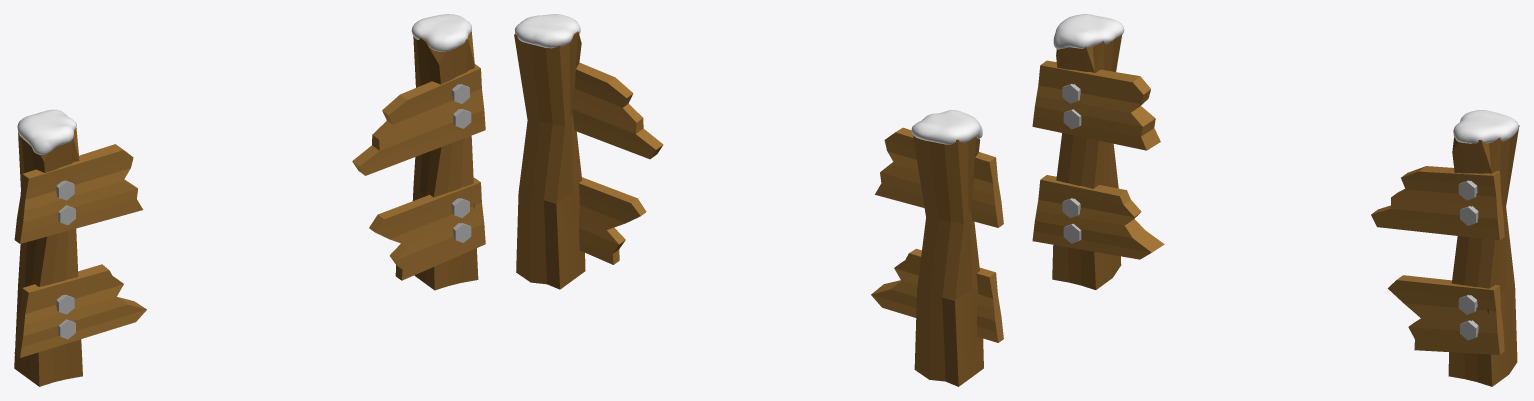
File: fenceDestroyed2.fbx
3 renders of one model, left to right at view 1: azimuth 30°, elevation 25°; view 2: azimuth 150°, elevation 25°; view 3: azimuth 330°, elevation 25°, orthographic.
Parts seen in each view (by area): view 1: Xaxis.005, Yaxis.002, Xaxis.004, SnowBall.006, Rivet.008, Rivet.010, Rivet.009, Rivet.011; view 2: Yaxis.002, Xaxis.005, Xaxis.004, SnowBall.006; view 3: Yaxis.002, Xaxis.005, Xaxis.004, SnowBall.006, Rivet.008, Rivet.010, Rivet.009, Rivet.011.
Part boxes in pixels (x1,y1,x2,y2): Xaxis.005: (14, 64, 485, 243); Yaxis.002: (14, 31, 478, 386); Xaxis.004: (14, 178, 485, 357); SnowBall.006: (17, 14, 471, 154); Rivet.008: (56, 198, 469, 314); Rivet.010: (56, 84, 469, 200); Rivet.009: (58, 223, 471, 339); Rivet.011: (58, 109, 471, 225); Yaxis.002: (514, 31, 983, 386); Xaxis.005: (572, 62, 1003, 227); Xaxis.004: (578, 177, 1003, 342); SnowBall.006: (514, 14, 982, 144); Yaxis.002: (1052, 35, 1519, 386); Xaxis.005: (1032, 60, 1504, 240); Xaxis.004: (1032, 175, 1504, 354); SnowBall.006: (1053, 14, 1518, 143); Rivet.008: (1062, 198, 1477, 314); Rivet.010: (1062, 83, 1477, 200); Rivet.009: (1063, 223, 1478, 340); Rivet.011: (1063, 109, 1478, 225).
Bounding box in the file's own units: 56.01 × 28.91 × 6.9.
